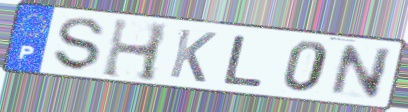0: (279, 39, 330, 94)
H: (99, 16, 171, 84)
K: (166, 26, 219, 85)
L: (220, 34, 267, 89)
N: (327, 44, 396, 101)
S: (52, 16, 107, 73)
